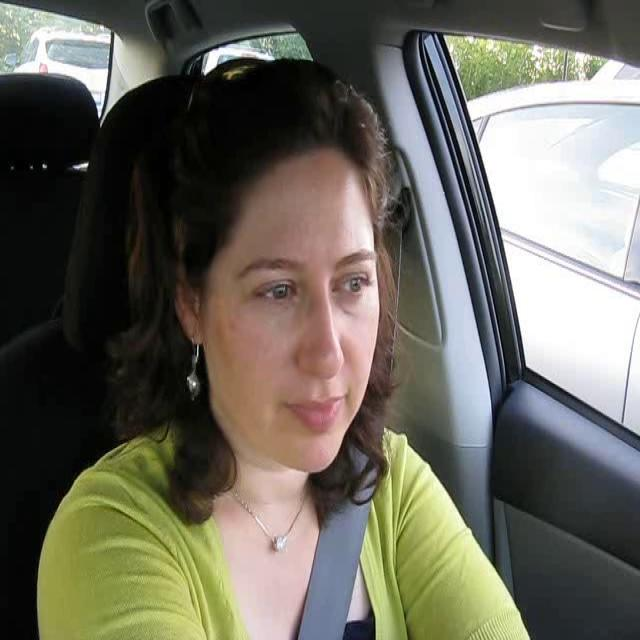close: (280, 389, 346, 434)
